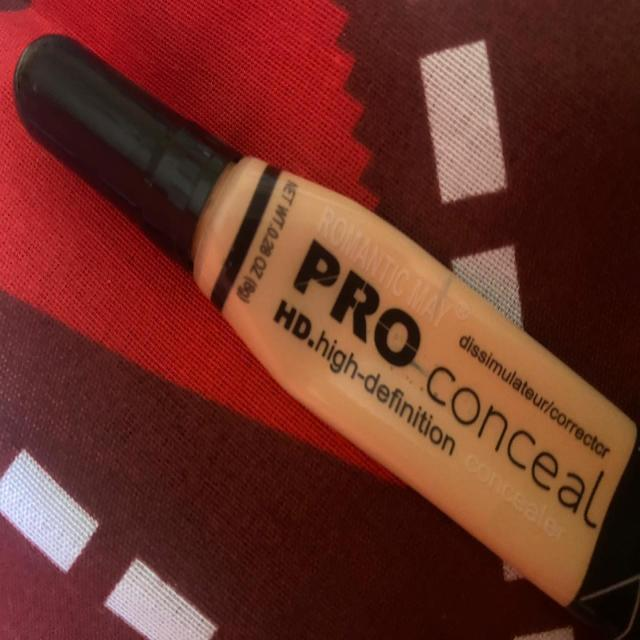concealer: (6, 10, 627, 622)
